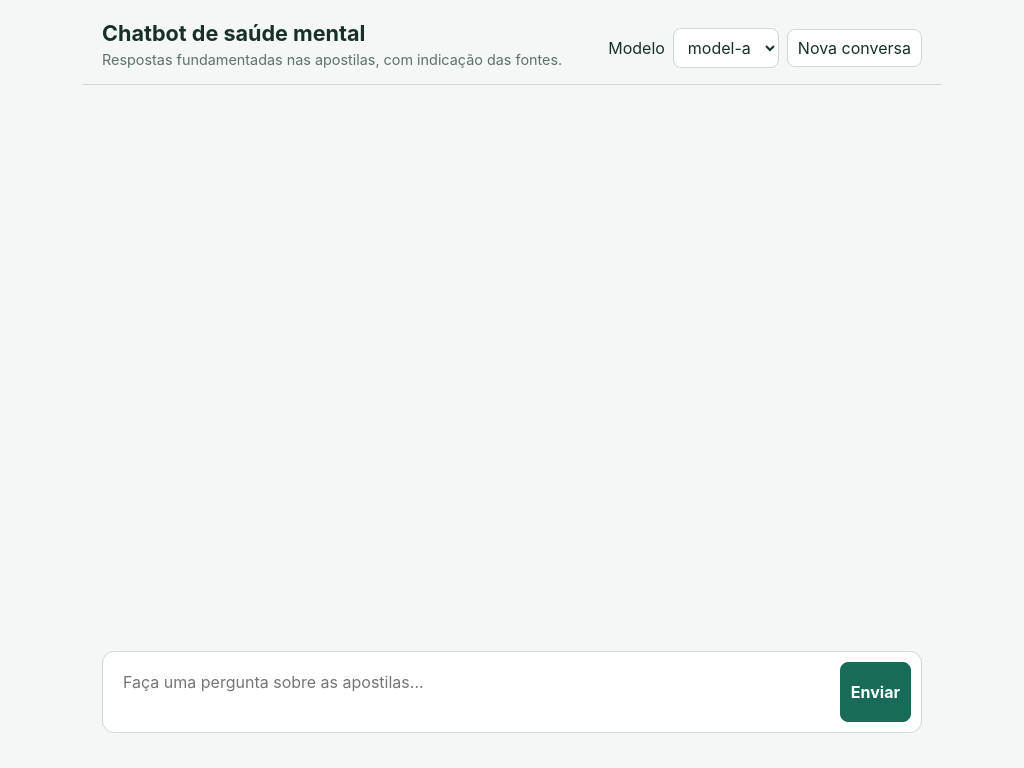
Test case: ChatPage › streams the answer and the sources
The width and height of the screenshot is (1024, 768).
Type "Oi" into the text box named "Sua pergunta" at (471, 692), box [113, 662, 830, 722]
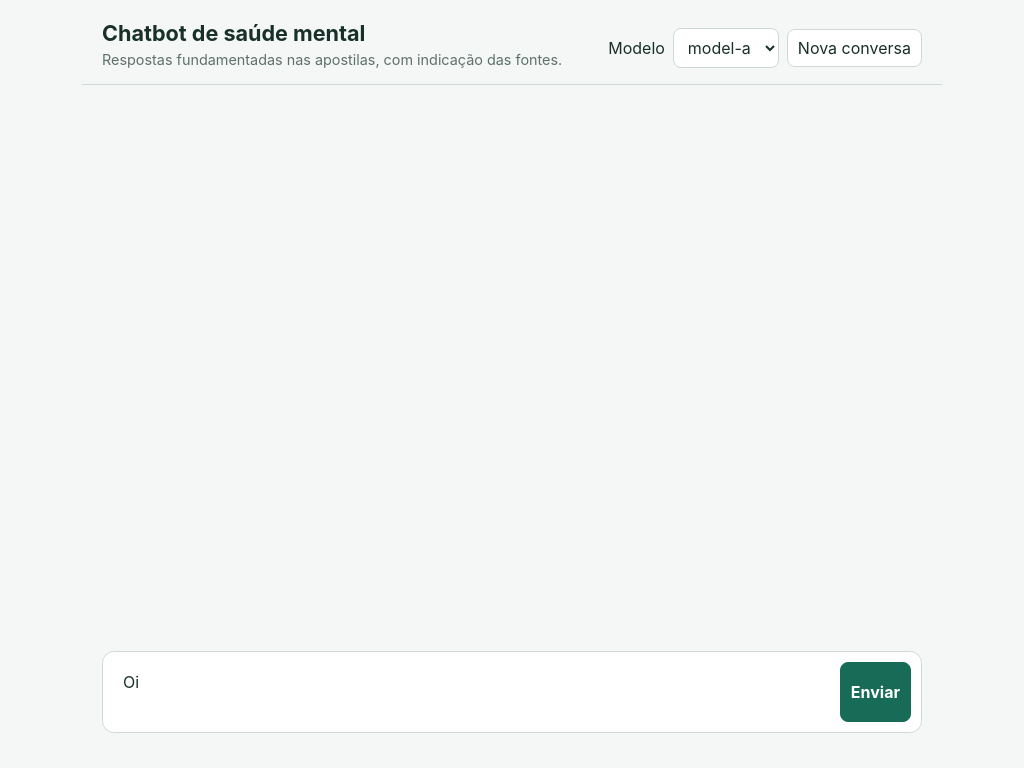
Click the button "Enviar" at (875, 692), box [840, 662, 911, 722]
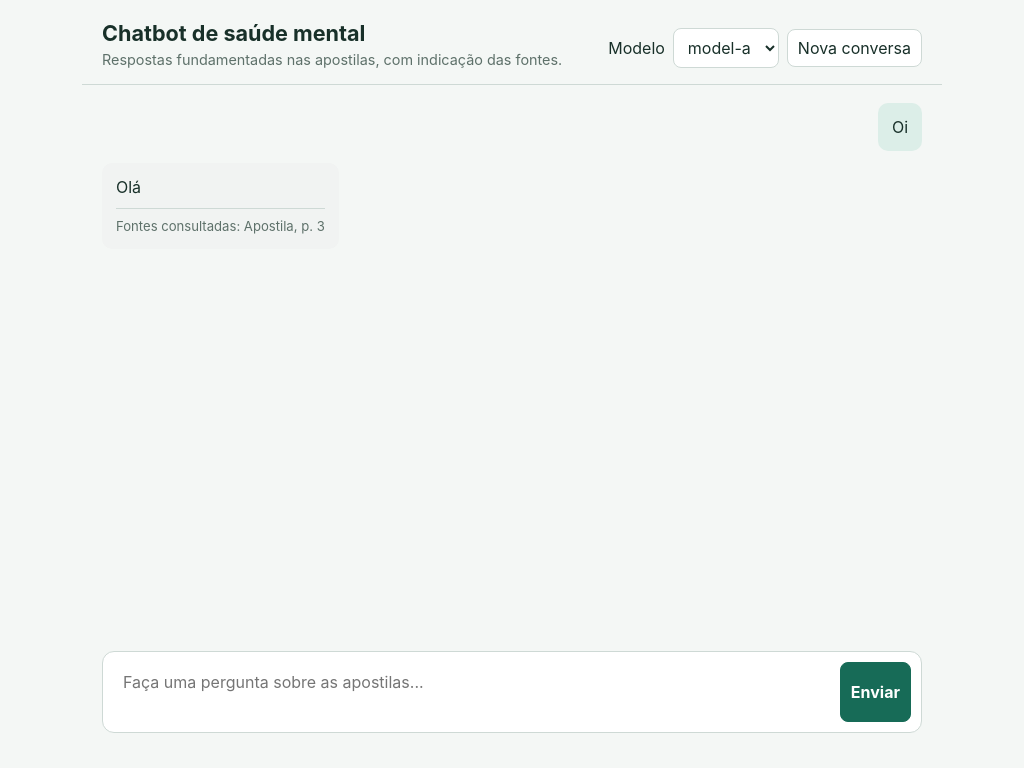
Now the text "Olá" is shown, box [116, 177, 141, 197]
Now the text "Oi" is shown, box [892, 115, 908, 139]
Now the text "Fontes consultadas: Apostila, p. 3" is shown, box [116, 208, 325, 237]
